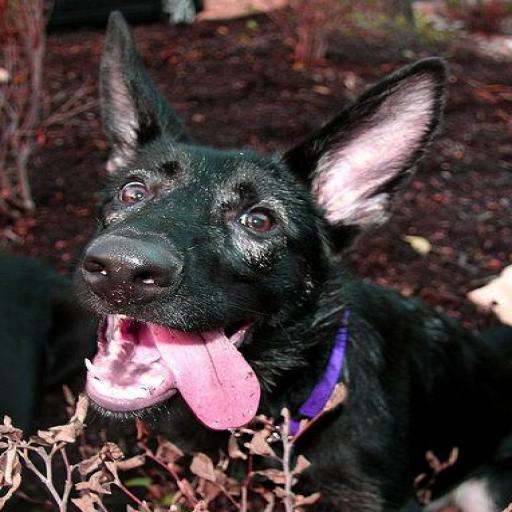dog_face: (84, 23, 416, 412)
